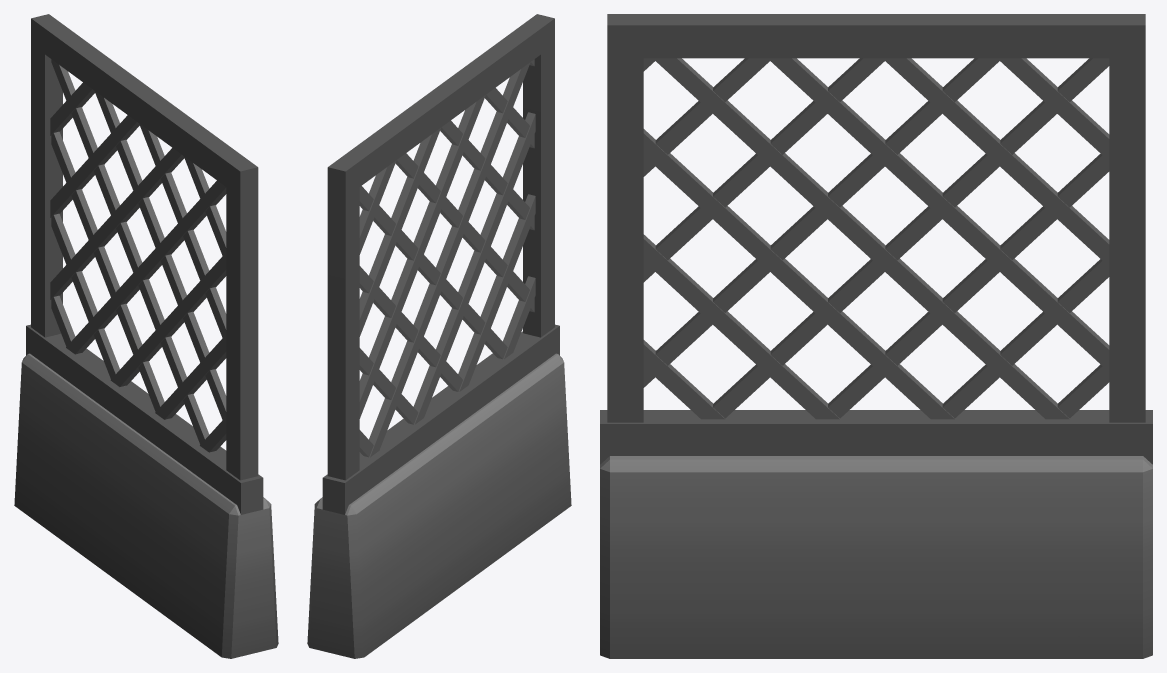
The model's file is Fence_1_F_7.fbx.
3 views of the same model, side by side, from view 1: azimuth 30°, elevation 25°; view 2: azimuth 150°, elevation 25°; view 3: azimuth 270°, elevation 25° (orthographic). The views are drawn at different scales.
Visible parts, largest first — view 1: Fence_1_F_7; view 2: Fence_1_F_7; view 3: Fence_1_F_7.
Boxes of the visible parts, x1,y1,x2,y2 form: Fence_1_F_7: [14, 14, 278, 658]; Fence_1_F_7: [307, 14, 571, 658]; Fence_1_F_7: [600, 14, 1152, 658].
Bounding box in the file's own units: 30.52 × 248 × 200.
